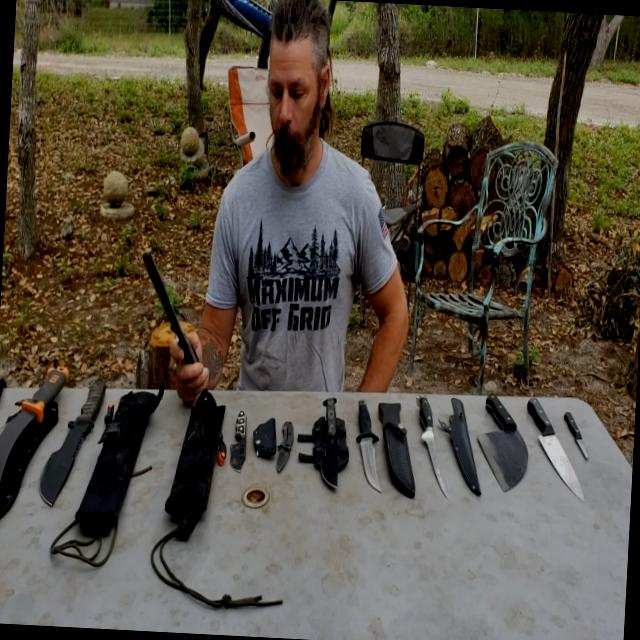knife: (117, 231, 221, 392), (0, 324, 74, 529), (43, 358, 109, 517), (522, 385, 594, 522), (469, 378, 535, 492), (406, 378, 464, 497), (312, 368, 363, 502), (343, 397, 392, 529), (560, 406, 612, 489), (268, 400, 306, 492), (225, 395, 262, 479)
